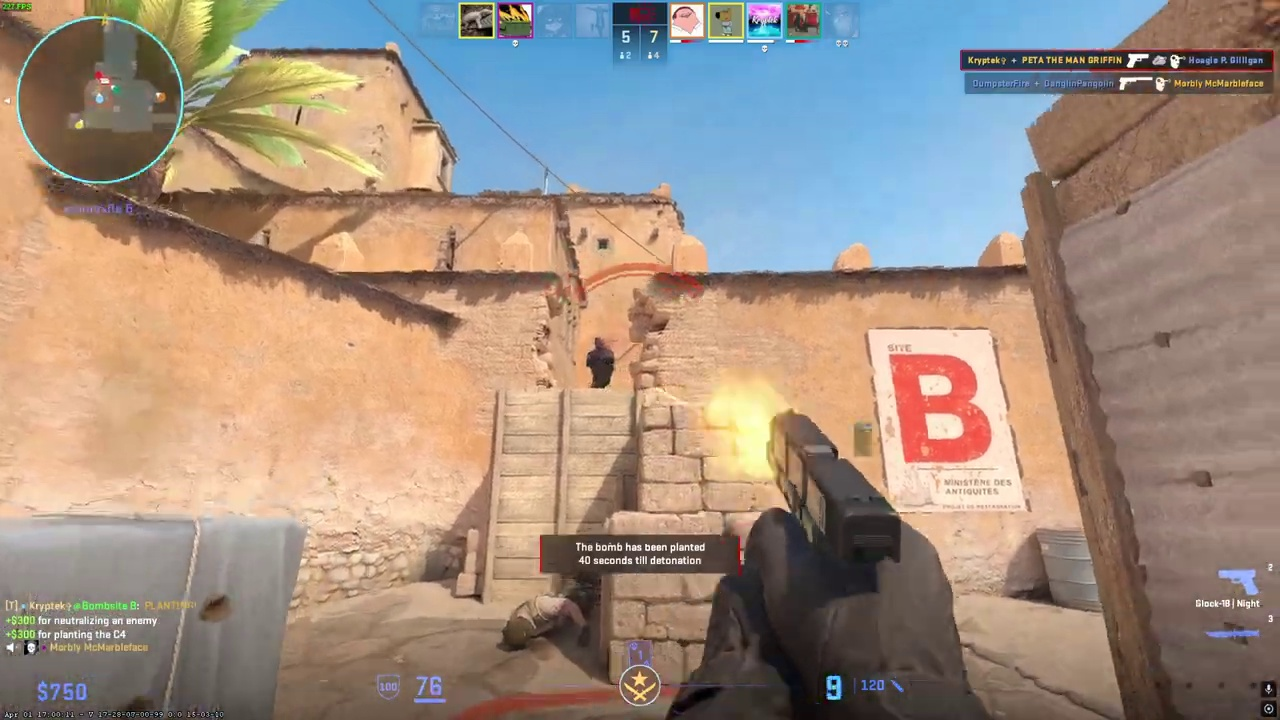CT: (586, 336, 615, 389)
